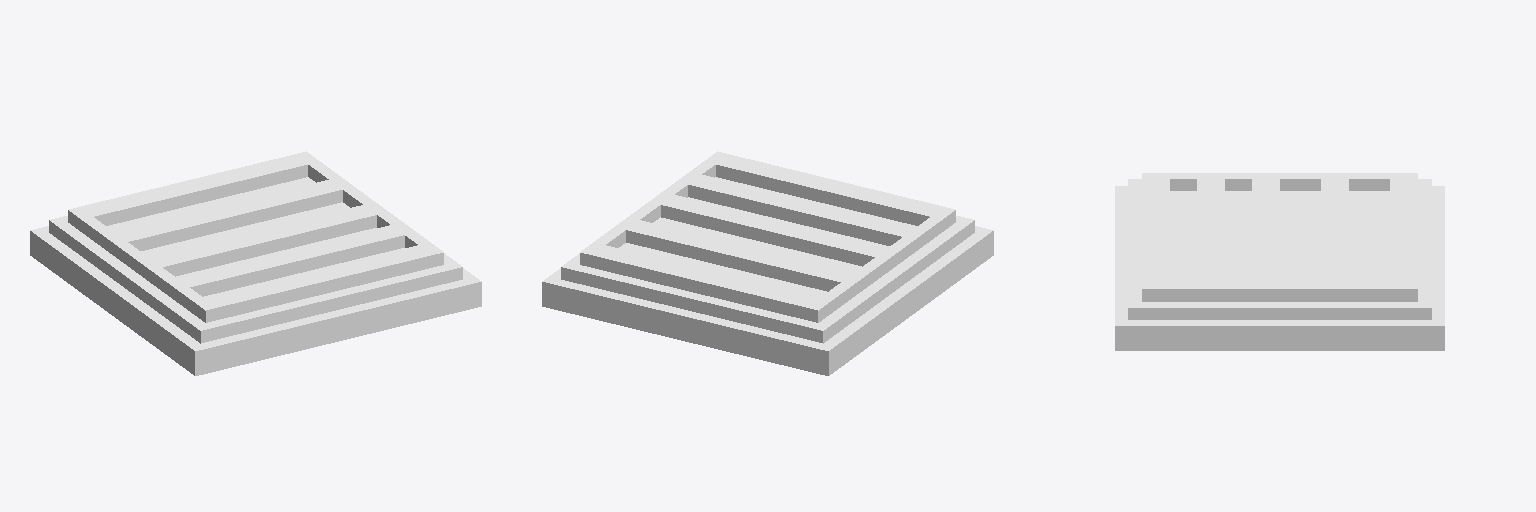
Rendered from bed-7.obj.
3 renders of one model, left to right at view 1: azimuth 30°, elevation 25°; view 2: azimuth 150°, elevation 25°; view 3: azimuth 270°, elevation 25°, orthographic.
Visible parts, largest first — view 1: object 1; view 2: object 1; view 3: object 1.
Part boxes in pixels (left/top/right/bottom): object 1: left=30, top=151, right=481, bottom=375; object 1: left=542, top=151, right=993, bottom=375; object 1: left=1115, top=173, right=1444, bottom=350.
Bounding box in the file's own units: 2.4 × 0.4 × 2.4.